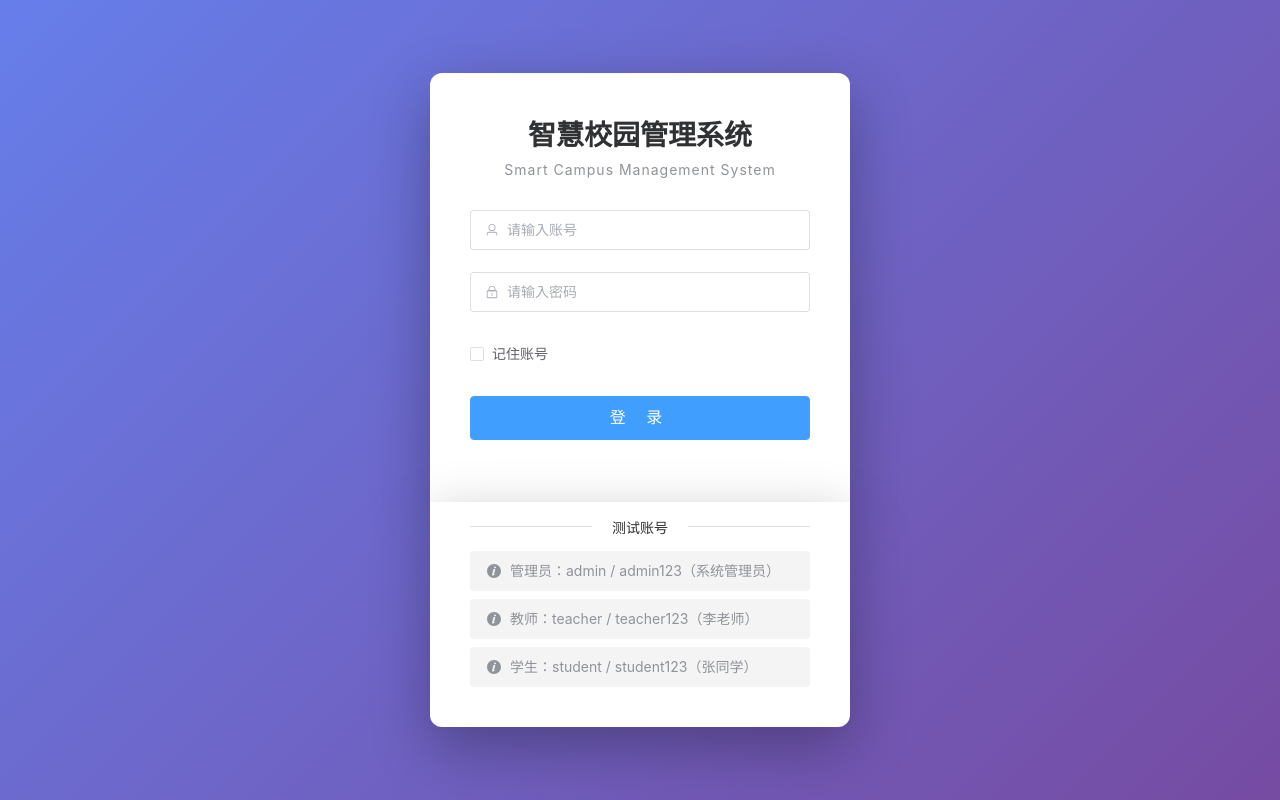
Test: Login.vue - 测试账号一键填入回归测试 › 点击测试账号仅填入账号密码，不触发登录 › 点击学生账号：填入 student/student123，未触发登录
expect the element with class "login-card" is shown: met, box [430, 73, 850, 502]
Click the message "学生：student / student123（张同学）" at (640, 667), box [470, 647, 810, 687]
Wait 1100 ms
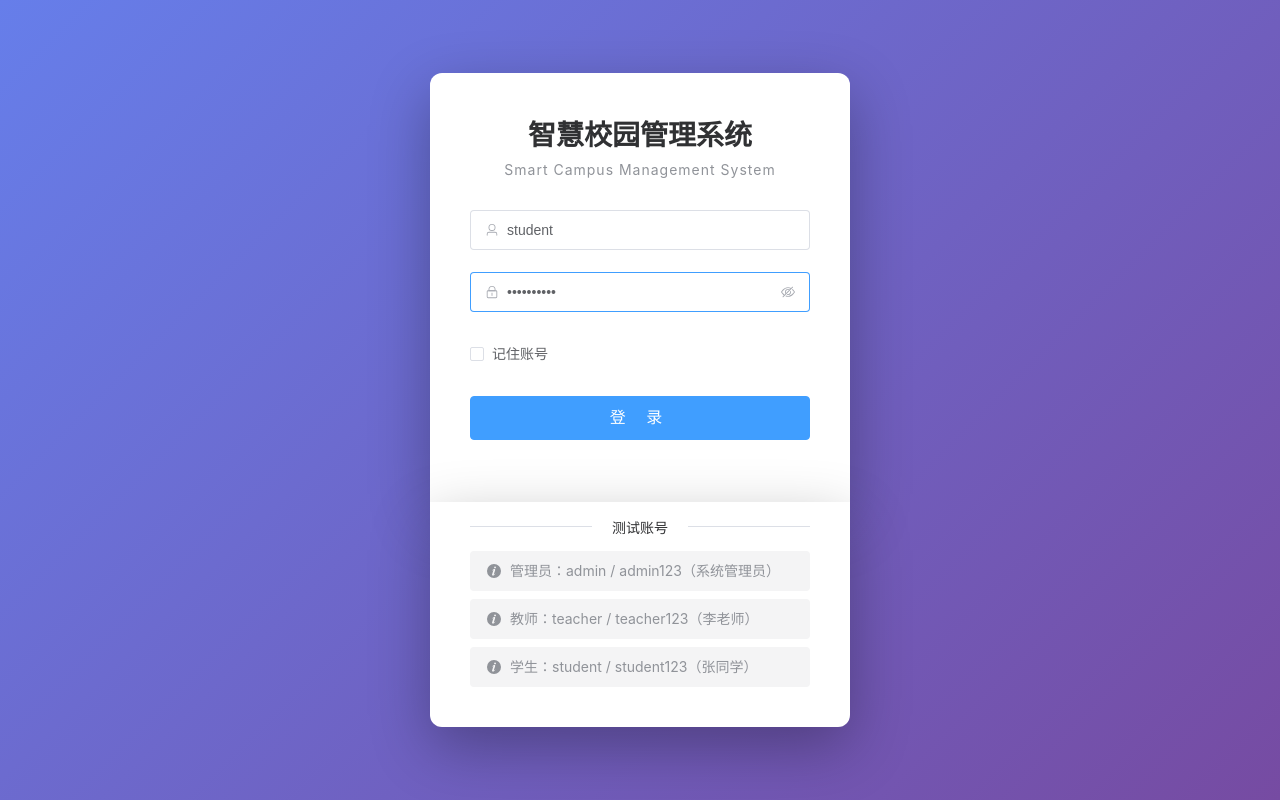
expect the element with class "login-card" is shown: met, box [430, 73, 850, 502]
expect the field holds "student": met, box [507, 211, 795, 249]
expect the password field holds "student123": met, box [507, 273, 773, 311]
